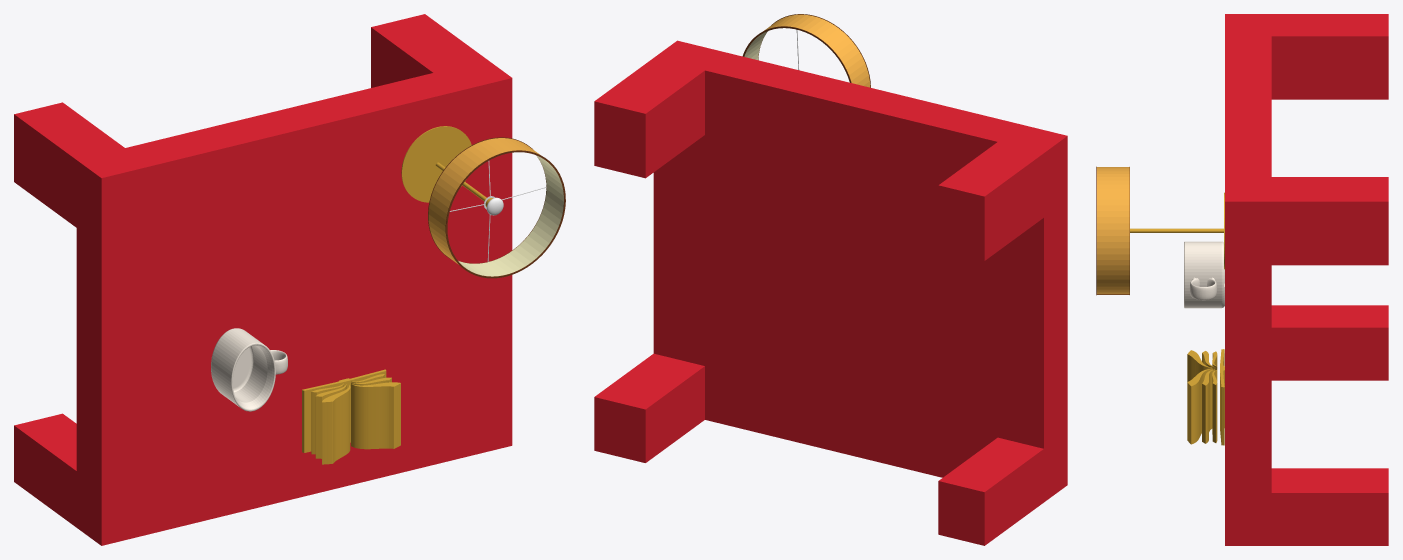
File: tinker.obj
3 renders of one model, left to right at view 1: azimuth 30°, elevation 25°; view 2: azimuth 150°, elevation 25°; view 3: azimuth 270°, elevation 25°, orthographic. The views are drawn at different scales.
Parts seen in each view (by area): view 1: group_0_15277357, group_0_14789940, group_0_16774632, group_0_16759114, group_0_16776135, group_0_7682325; view 2: group_0_15277357, group_0_16759114; view 3: group_0_15277357, group_0_16759114, group_0_14789940, group_0_16774632.
Boxes of the visible parts, box(x1,y1,x2,y2) form: group_0_15277357: box(14, 14, 512, 545); group_0_14789940: box(302, 126, 492, 464); group_0_16774632: box(211, 328, 287, 411); group_0_16759114: box(428, 138, 539, 264); group_0_16776135: box(458, 155, 563, 276); group_0_7682325: box(428, 137, 565, 278); group_0_15277357: box(594, 40, 1067, 545); group_0_16759114: box(764, 14, 870, 87); group_0_15277357: box(1225, 14, 1388, 545); group_0_16759114: box(1097, 167, 1129, 294); group_0_14789940: box(1130, 192, 1224, 445); group_0_16774632: box(1184, 241, 1224, 308).
Size of the model in its own units: 76 by 65 by 50.
